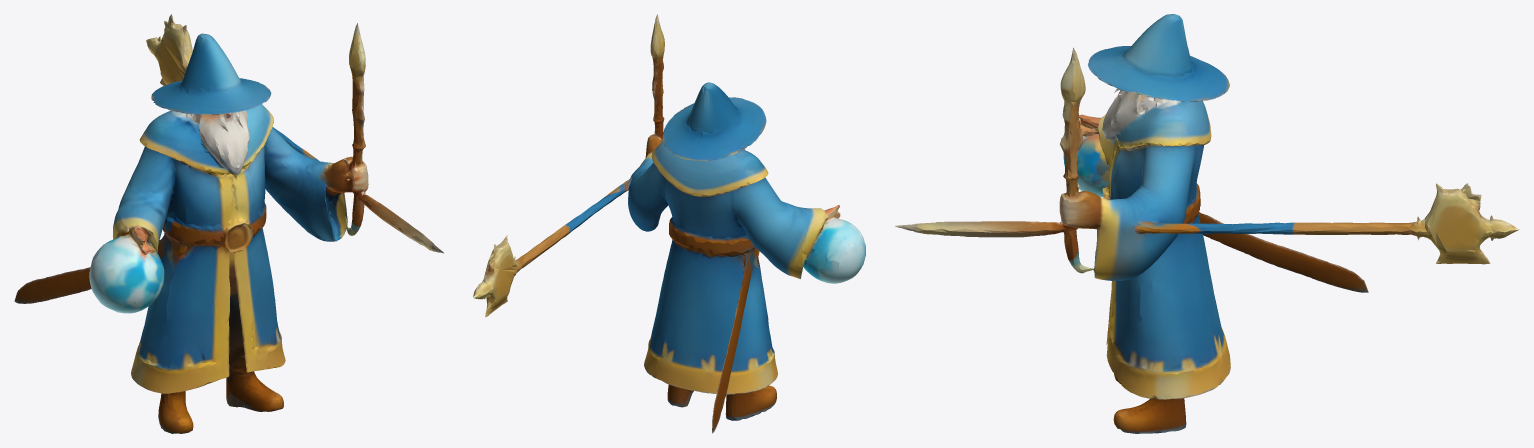
Rendered from human_mage.glb.
3 views of the same model, side by side, from view 1: azimuth 30°, elevation 25°; view 2: azimuth 150°, elevation 25°; view 3: azimuth 270°, elevation 25° (orthographic). The views are drawn at different scales.
Parts seen in each view (by area): view 1: human_mage; view 2: human_mage; view 3: human_mage.
Part boxes in pixels (bbox=[...]): human_mage: bbox=[14, 14, 443, 433]; human_mage: bbox=[473, 14, 865, 433]; human_mage: bbox=[895, 14, 1519, 433].
Bounding box in the file's own units: 0.947 × 1.4 × 1.89.
Materials: 1 (1 with a texture image).
